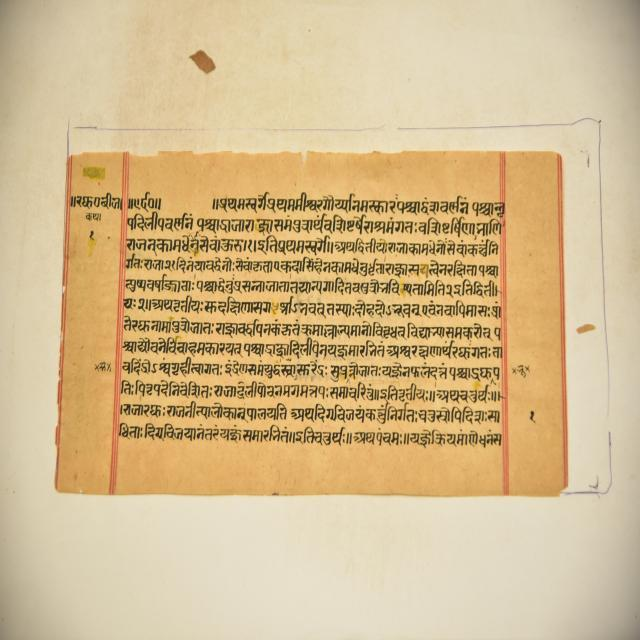text_paragraph: (52, 148, 567, 492)
